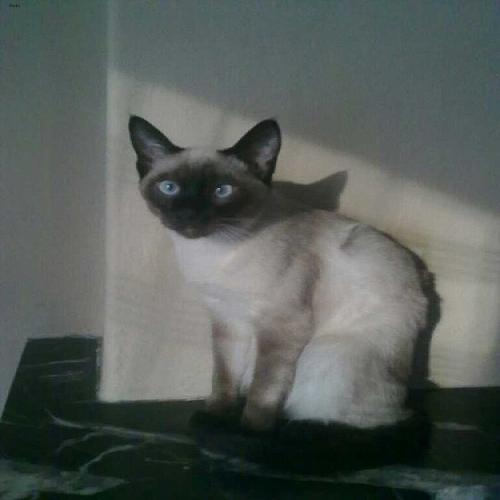siamese: (119, 104, 302, 255)
